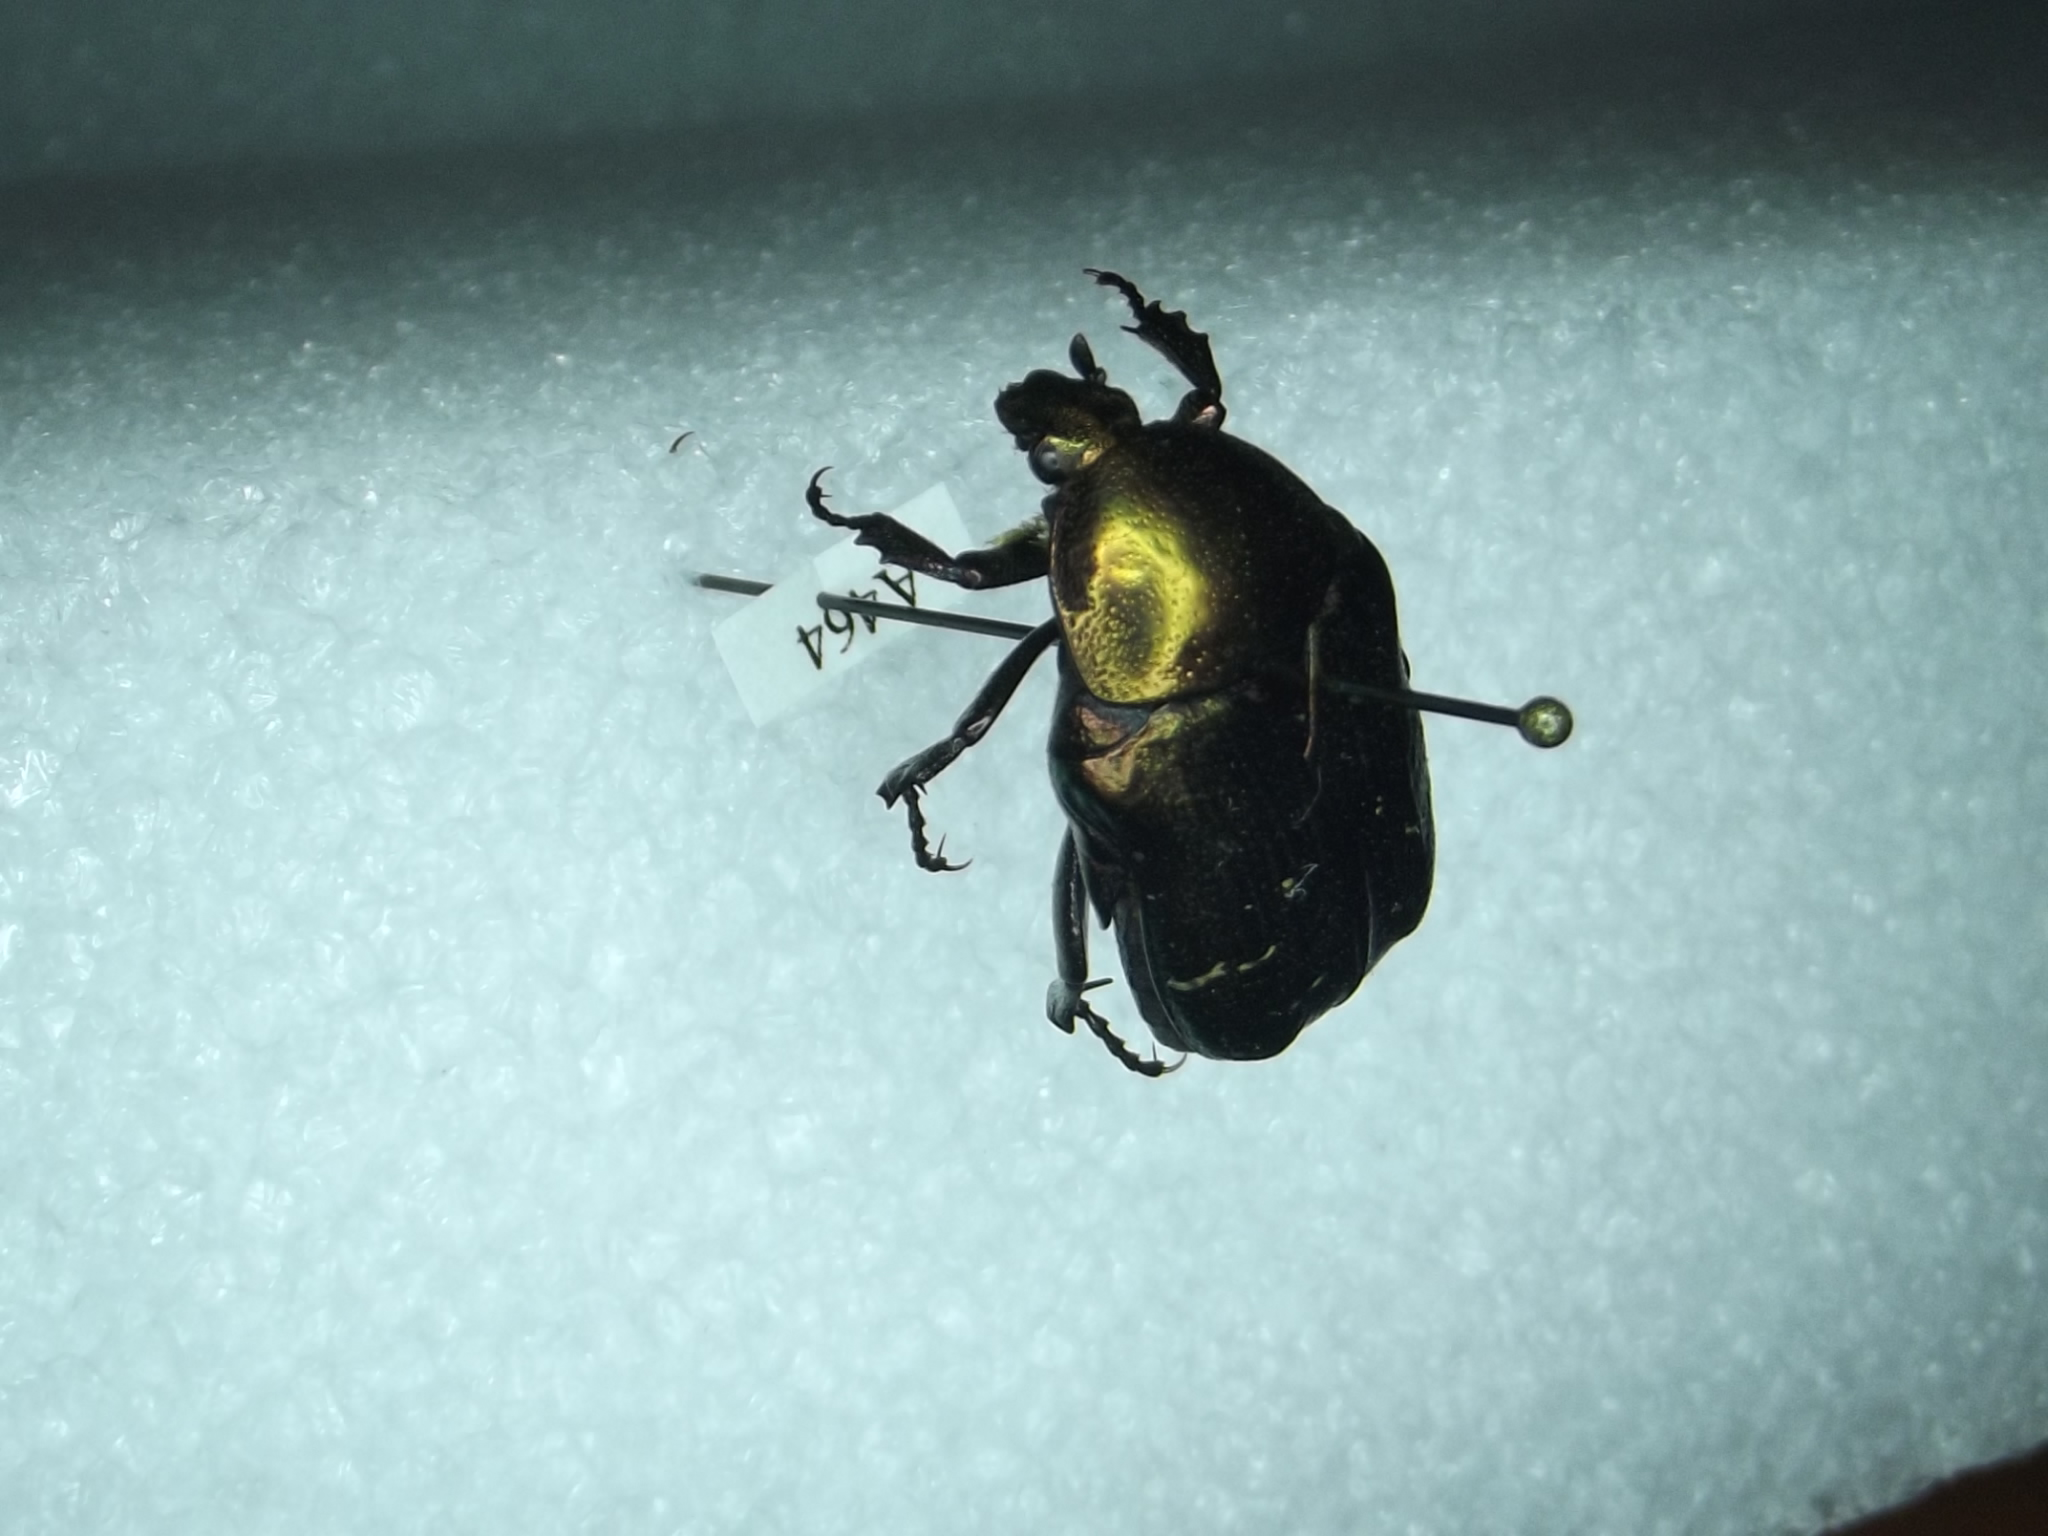Cetonia_kemali: (764, 257, 1455, 1079)
